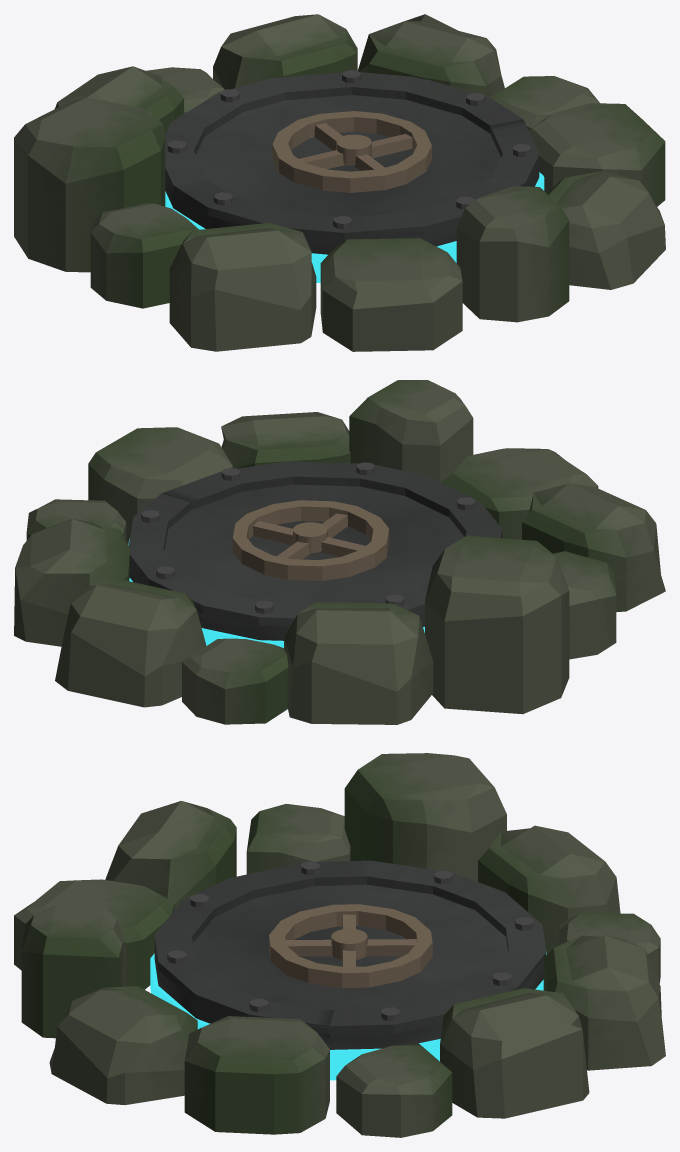
File: bunker2.glb
The picture shows the model from 3 angles, top to bottom: view 1: azimuth 30°, elevation 25°; view 2: azimuth 150°, elevation 25°; view 3: azimuth 270°, elevation 25°; orthographic projection. The views are drawn at different scales.
Parts seen in each view (by area): view 1: Cube.030, rock6.001, rock11.001, rock12.001, rock10.001, rock4.001, rock5.001, rock9.001, rock1.001, rock2.001, Cube.032, rock7.001 (+6 smaller); view 2: Cube.030, rock6.001, rock7.001, rock1.001, rock11.001, rock10.001, rock2.001, rock5.001, rock8.001, Cube.032, rock12.001, rock4.001 (+6 smaller); view 3: Cube.030, rock6.001, rock2.001, rock5.001, rock4.001, rock1.001, rock10.001, rock7.001, rock11.001, rock3.001, Cube.032, rock12.001 (+5 smaller).
Part boxes in pixels (x1,y1,x2,y2): Cube.030: (165,72,539,254); rock6.001: (14,98,165,272); rock11.001: (169,223,316,351); rock12.001: (320,238,462,351); rock10.001: (456,186,569,322); rock4.001: (547,171,665,289); rock5.001: (529,103,665,206); rock9.001: (90,203,198,308); rock1.001: (213,14,357,89); rock2.001: (358,14,504,97); Cube.032: (272,111,431,192); rock7.001: (55,66,183,133); Cube.030: (128,461,502,640); rock6.001: (425,536,569,714); rock7.001: (284,602,433,724); rock1.001: (55,578,206,707); rock11.001: (522,483,665,611); rock10.001: (349,380,473,482); rock2.001: (14,518,129,646); rock5.001: (88,427,232,544); rock8.001: (182,638,288,724); Cube.032: (232,500,389,580); rock12.001: (441,448,598,539); rock4.001: (221,412,350,468); Cube.030: (154,860,546,1049); rock6.001: (344,753,506,881); rock2.001: (440,988,589,1118); rock5.001: (184,1016,329,1134); rock4.001: (49,986,197,1104); rock1.001: (543,935,665,1070); rock10.001: (21,906,125,1038); rock7.001: (478,825,620,953); rock11.001: (105,801,236,909); rock3.001: (336,1043,452,1137); Cube.032: (269,904,432,988); rock12.001: (14,879,174,989).
Size of the model in its own units: 12.57 by 2.65 by 12.58.
Materials: 5 (2 with a texture image).
